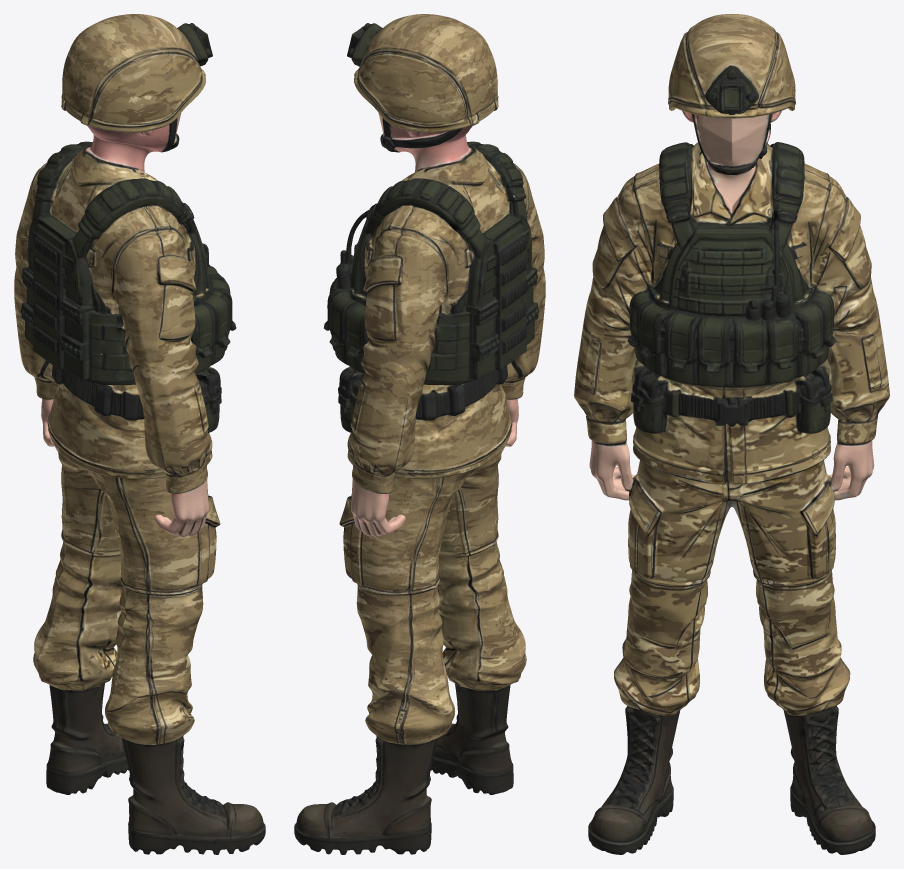
File: military+soldier+3d+model.glb
3 views of the same model, side by side, from view 1: azimuth 30°, elevation 25°; view 2: azimuth 150°, elevation 25°; view 3: azimuth 270°, elevation 25° (orthographic).
Parts seen in each view (by area): view 1: tripo_node_bef23e7f-19ba-4264-b5f6-7edf5b5b810c; view 2: tripo_node_bef23e7f-19ba-4264-b5f6-7edf5b5b810c; view 3: tripo_node_bef23e7f-19ba-4264-b5f6-7edf5b5b810c.
Part boxes in pixels (box(x1,y1,x2,y2)): tripo_node_bef23e7f-19ba-4264-b5f6-7edf5b5b810c: box(14, 14, 265, 854); tripo_node_bef23e7f-19ba-4264-b5f6-7edf5b5b810c: box(294, 14, 545, 854); tripo_node_bef23e7f-19ba-4264-b5f6-7edf5b5b810c: box(574, 14, 889, 854).
Bounding box in the file's own units: 0.2323 × 0.9997 × 0.3593.
1 material, 1 textured.
